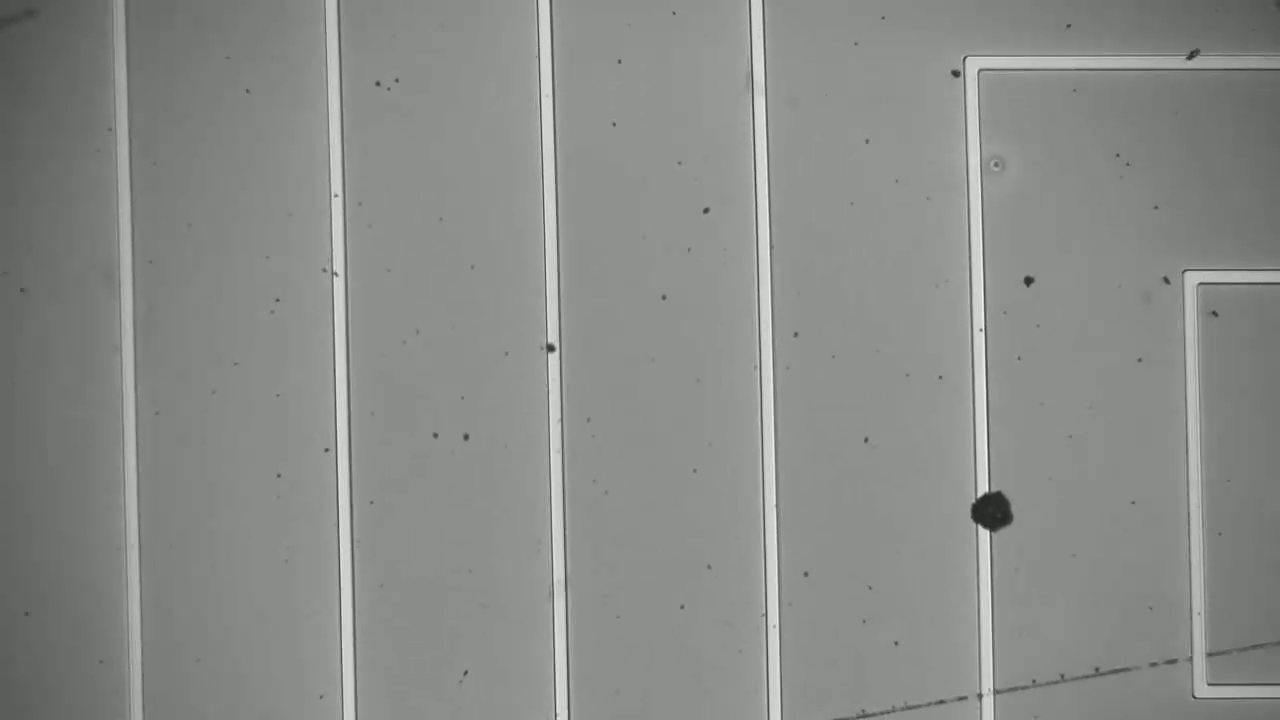scratch: (860, 640, 1278, 711)
stains_enbedded: (967, 479, 1025, 542), (538, 335, 565, 364)
